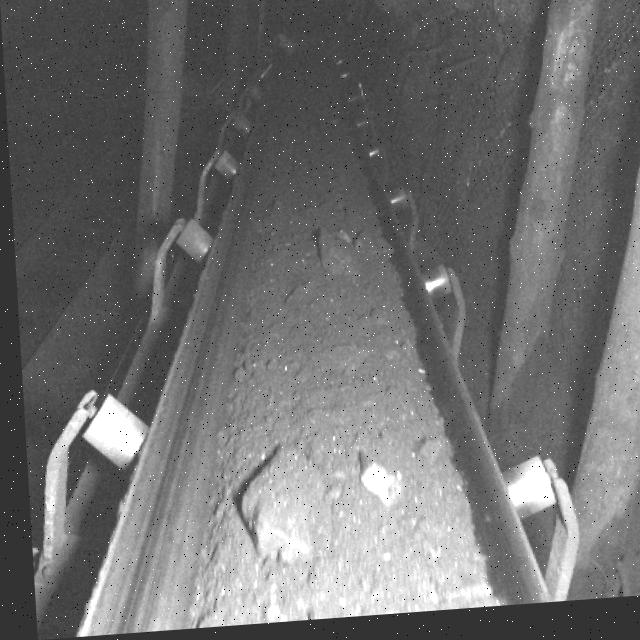large_sized_coal: (228, 452, 325, 562), (310, 226, 395, 289), (350, 458, 399, 516)
